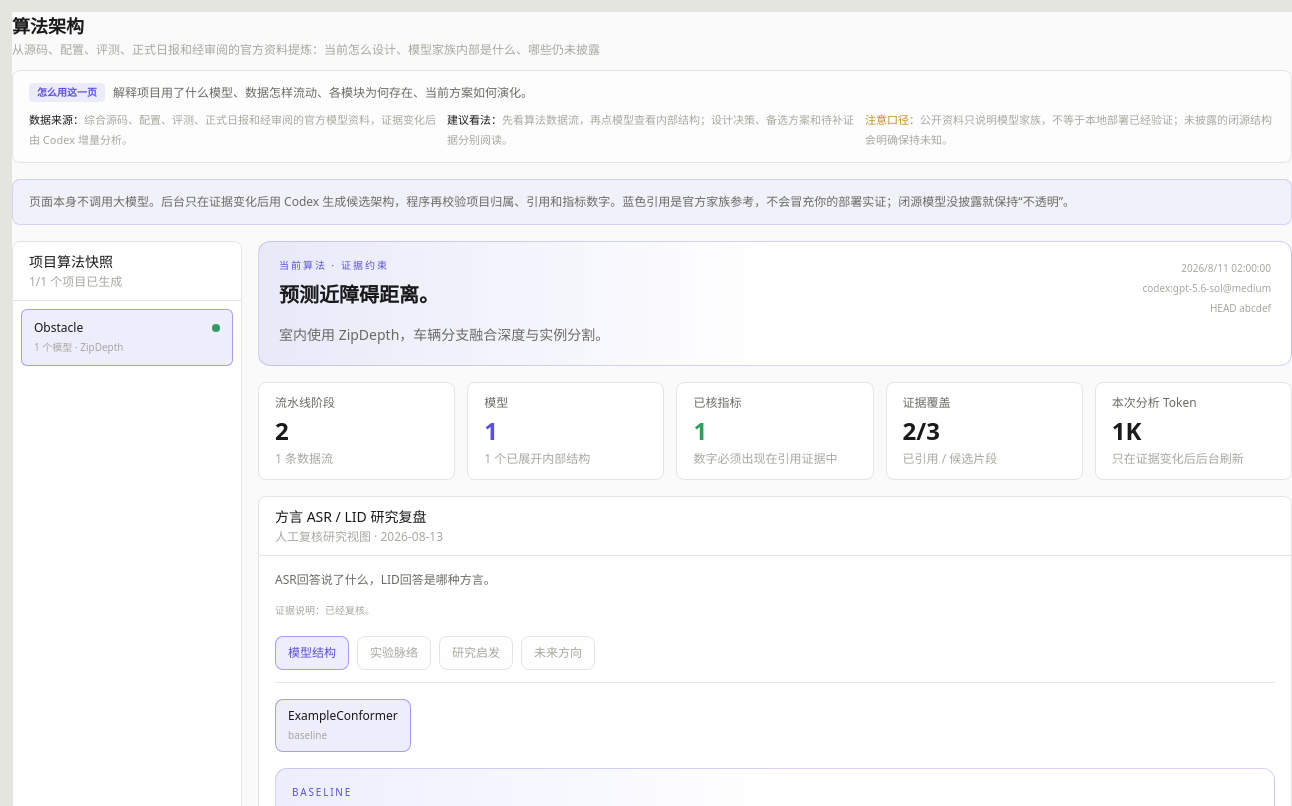
Test: 算法架构页 › 展示人工复核的模型精读、实验脉络、研究启发和未来路线
Check: the heading "方言 ASR / LID 研究复盘" is shown, box [275,507,443,527]
Click the button "实验脉络". click: (394, 653)
box: [357,636,431,670]
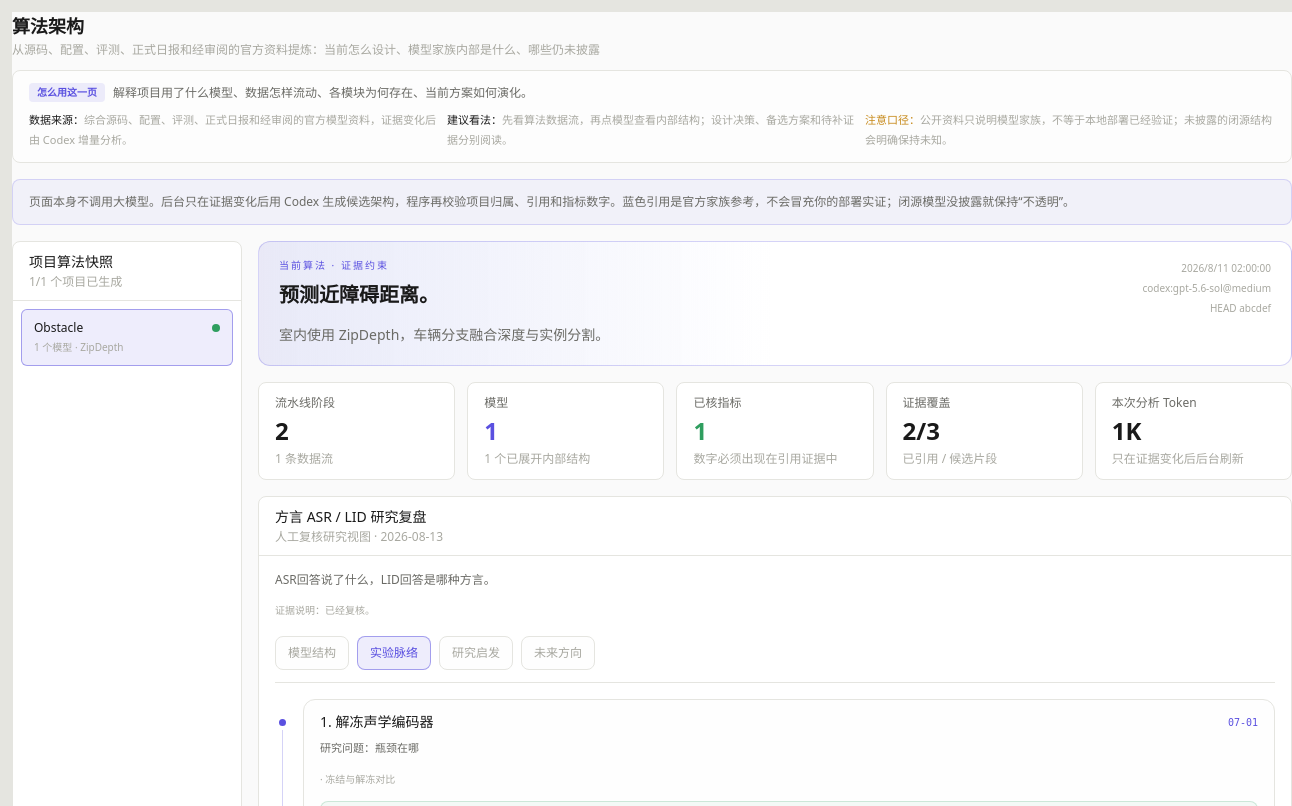
Check: the heading "1. 解冻声学编码器" is shown, box [320,712,433,732]
Click the button "研究启发". click: (476, 653)
box: [439,636,513,670]
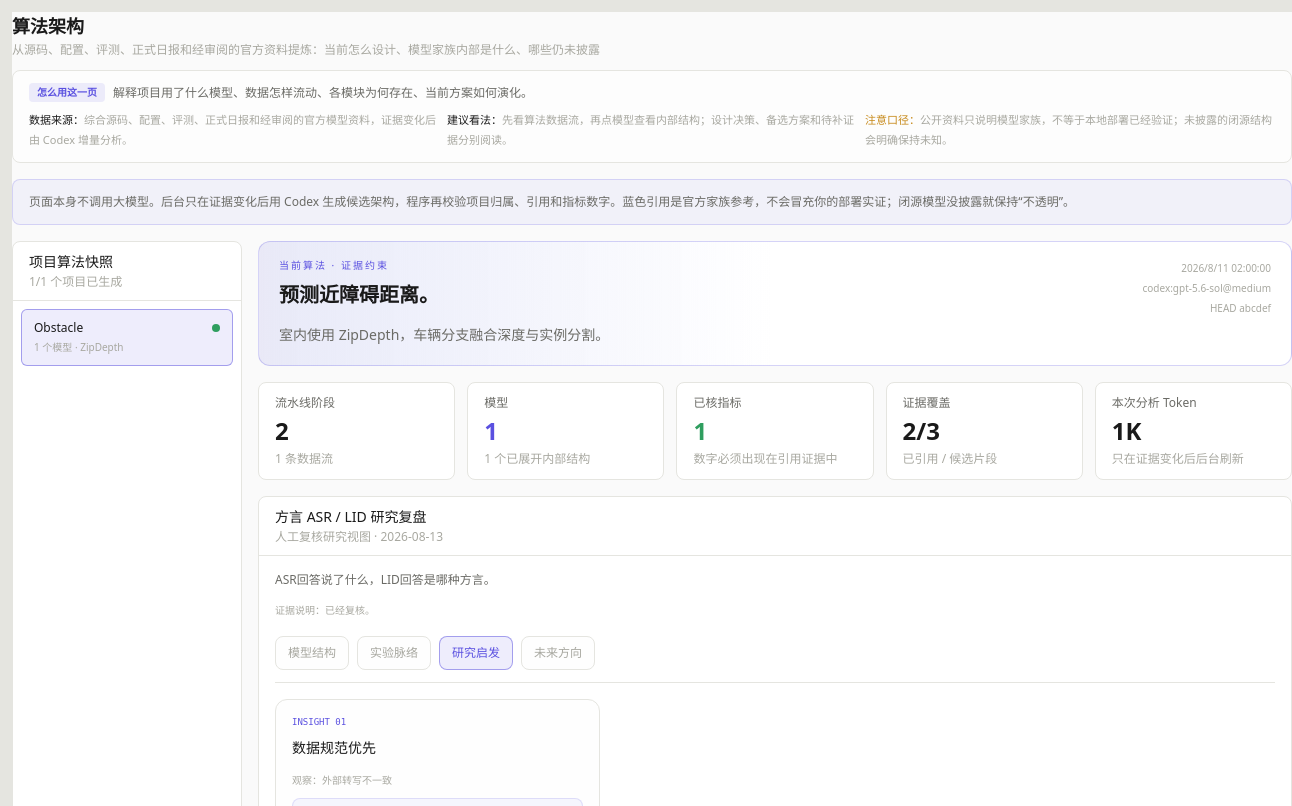
Check: the heading "数据规范优先" is shown, box [292,738,376,756]
Click the button "未来方向". click: (558, 653)
box: [521,636,595,670]
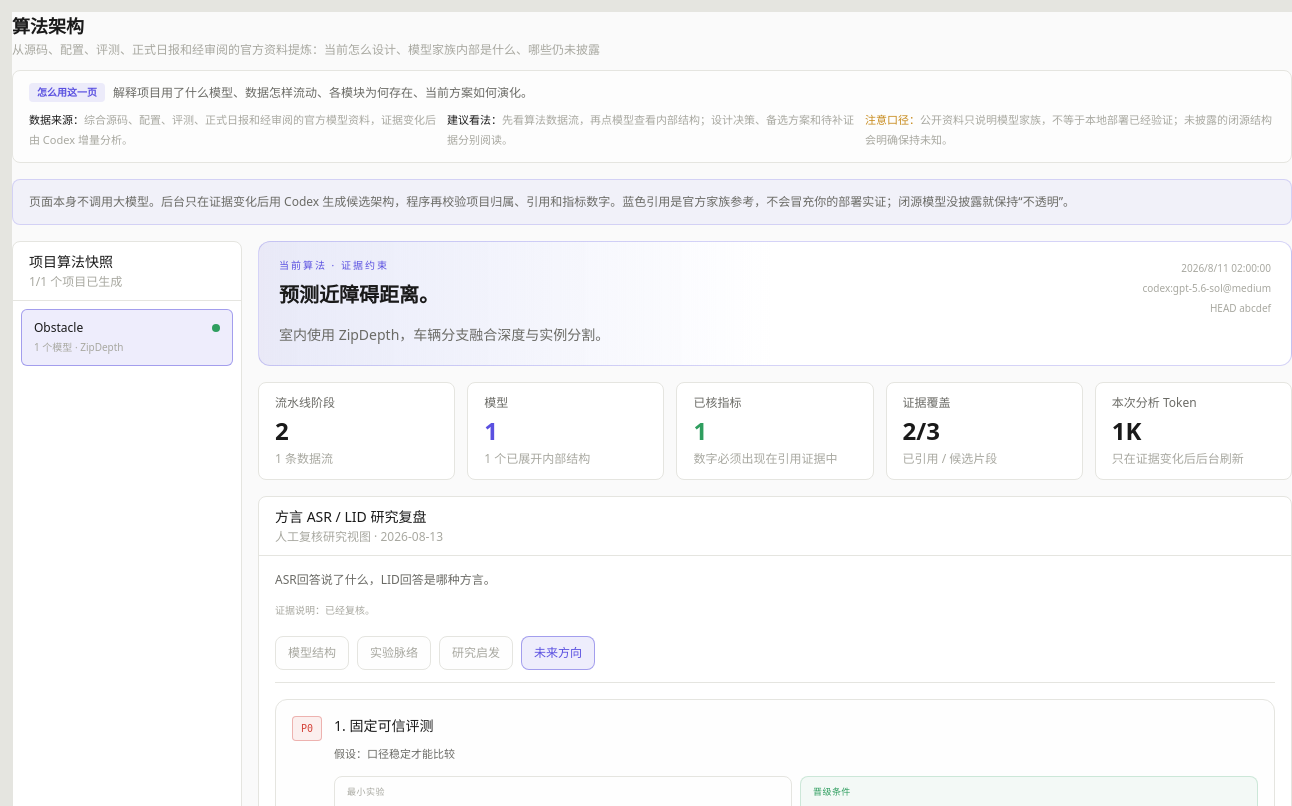
Check: the heading "1. 固定可信评测" is shown, box [334,716,433,736]
